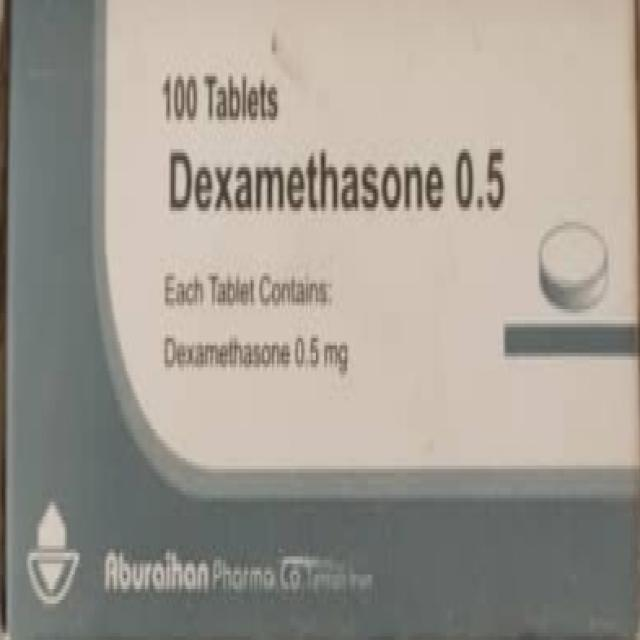drug-name: (166, 150, 508, 212)
